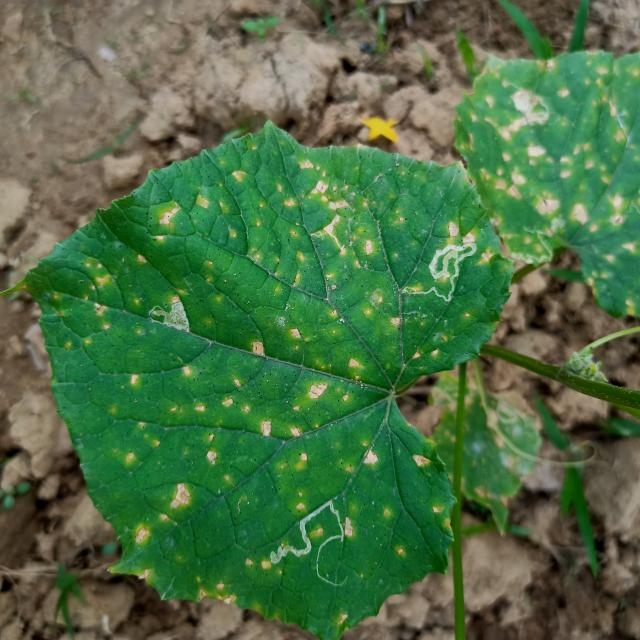disease_cucumber: (89, 155, 493, 589), (495, 56, 640, 297)
